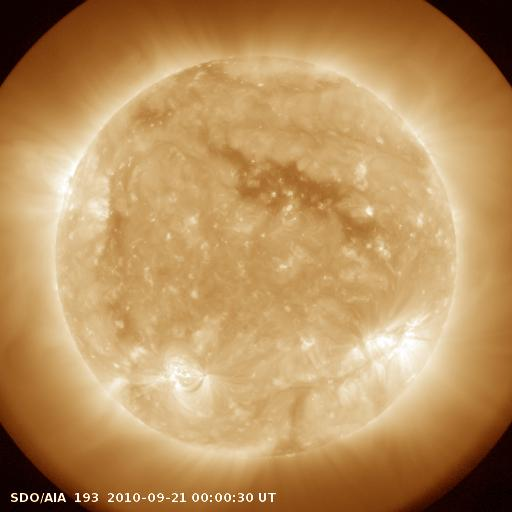coronal_hole: (221, 145, 376, 235)
